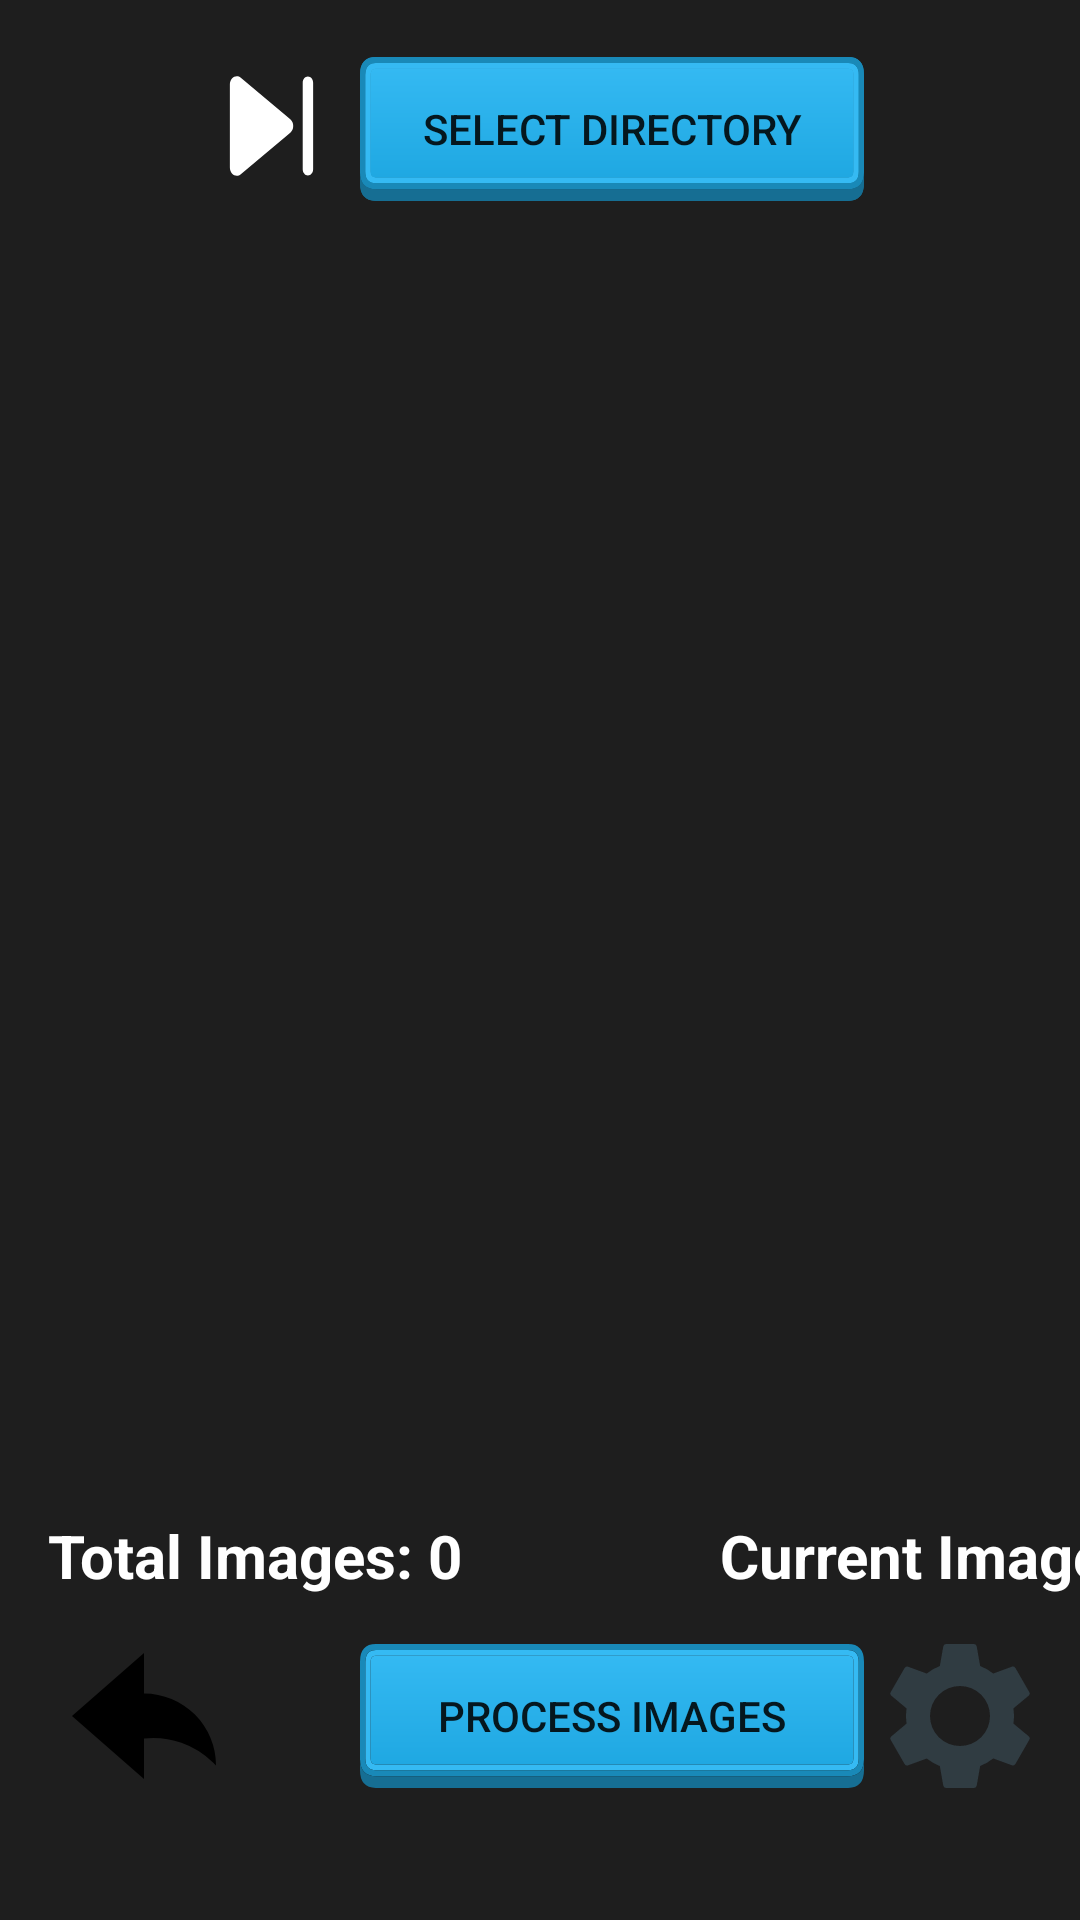

Icons on this 1080 x 1920 Android screen, each with its box as [x1=x1, y1=y1, x2=x2, y2=y2]:
Brings user to the settings menu: [x1=890, y1=1644, x2=1030, y2=1788]
next: [x1=229, y1=76, x2=314, y2=176]
undo: [x1=73, y1=1654, x2=216, y2=1778]
